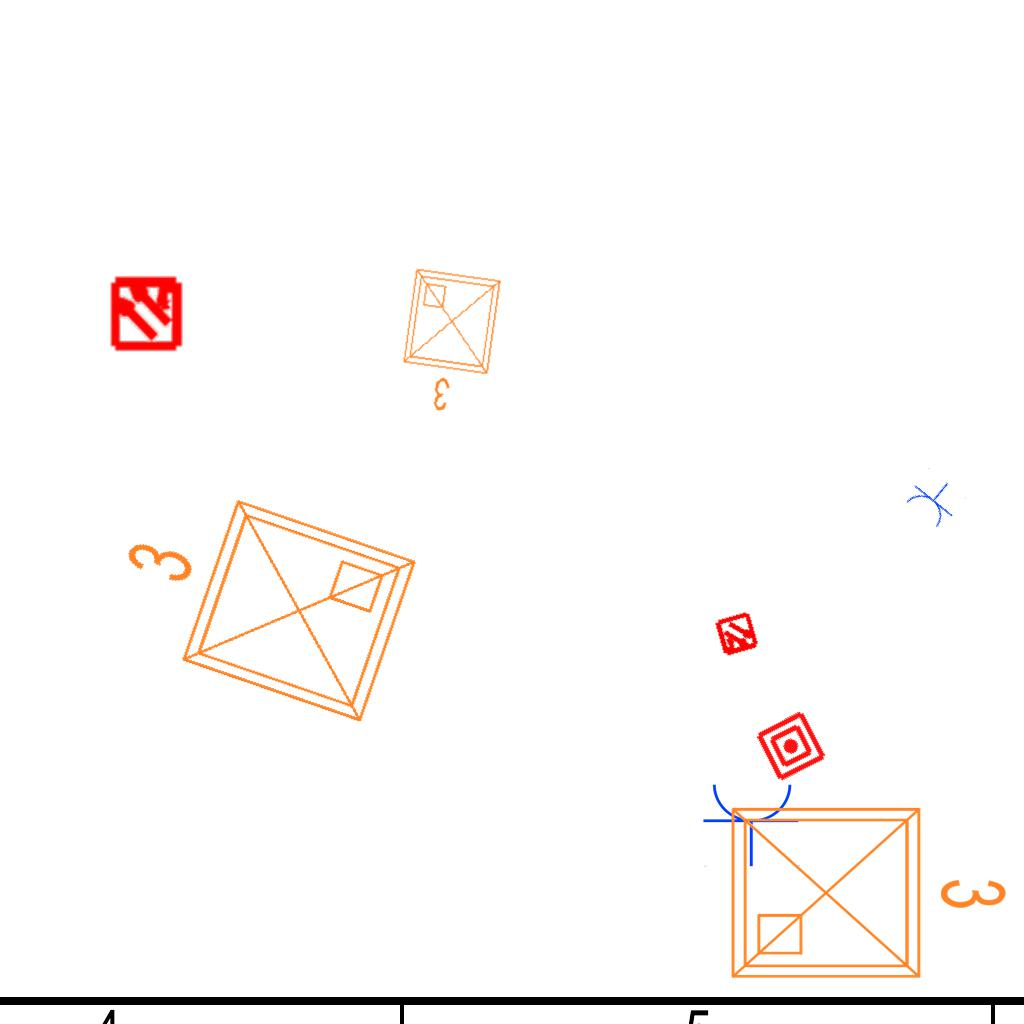Einbaudownlights_LED_Konferenzraeume: (83, 453, 435, 749), (717, 785, 1017, 993), (389, 260, 513, 424)
NAM-Nichtautomatischer_Melder: (753, 708, 829, 784)
OT_Multisensormelder_(Kombination_RMO_WMD): (90, 255, 203, 368), (702, 600, 772, 670)
Schukosteckdose_einfach: (702, 780, 802, 867), (901, 467, 967, 532)
